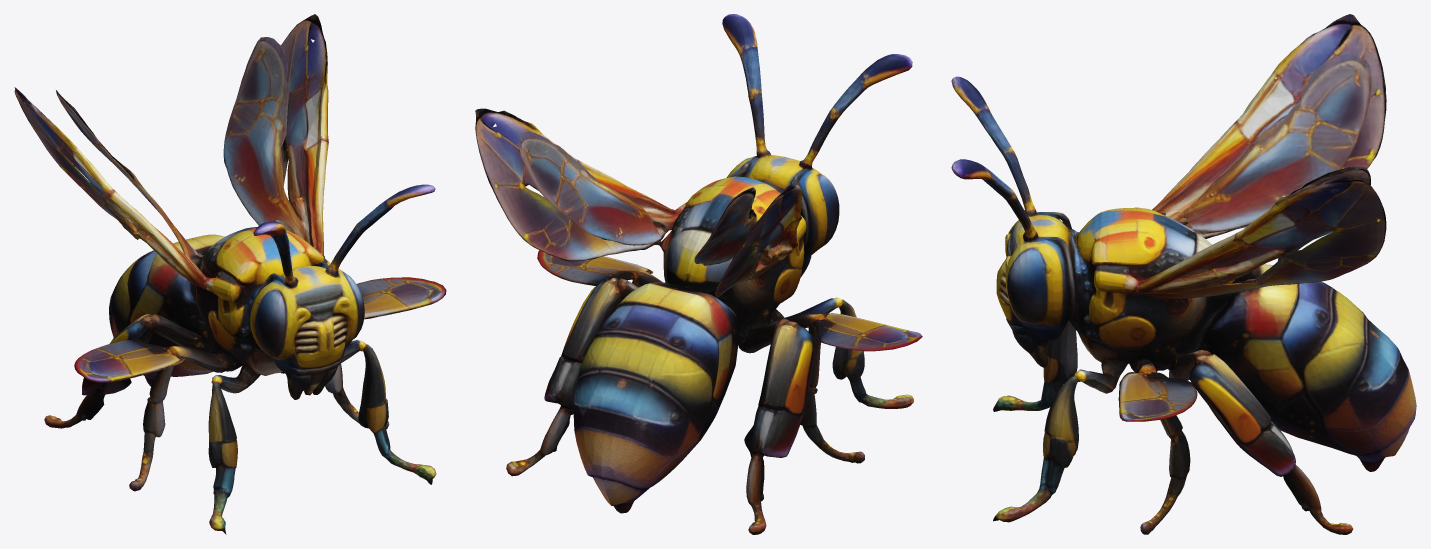
3 views of the same model, side by side, from view 1: azimuth 30°, elevation 25°; view 2: azimuth 150°, elevation 25°; view 3: azimuth 270°, elevation 25° (orthographic). The views are drawn at different scales.
Visible parts, largest first — view 1: world; view 2: world; view 3: world.
Part boxes in pixels (x1,y1,x2,y2): world: (14,14,446,534); world: (475,14,922,534); world: (951,14,1416,534).
Bounding box in the file's own units: 0.9798 × 0.8898 × 0.994.
1 material, 1 textured.
